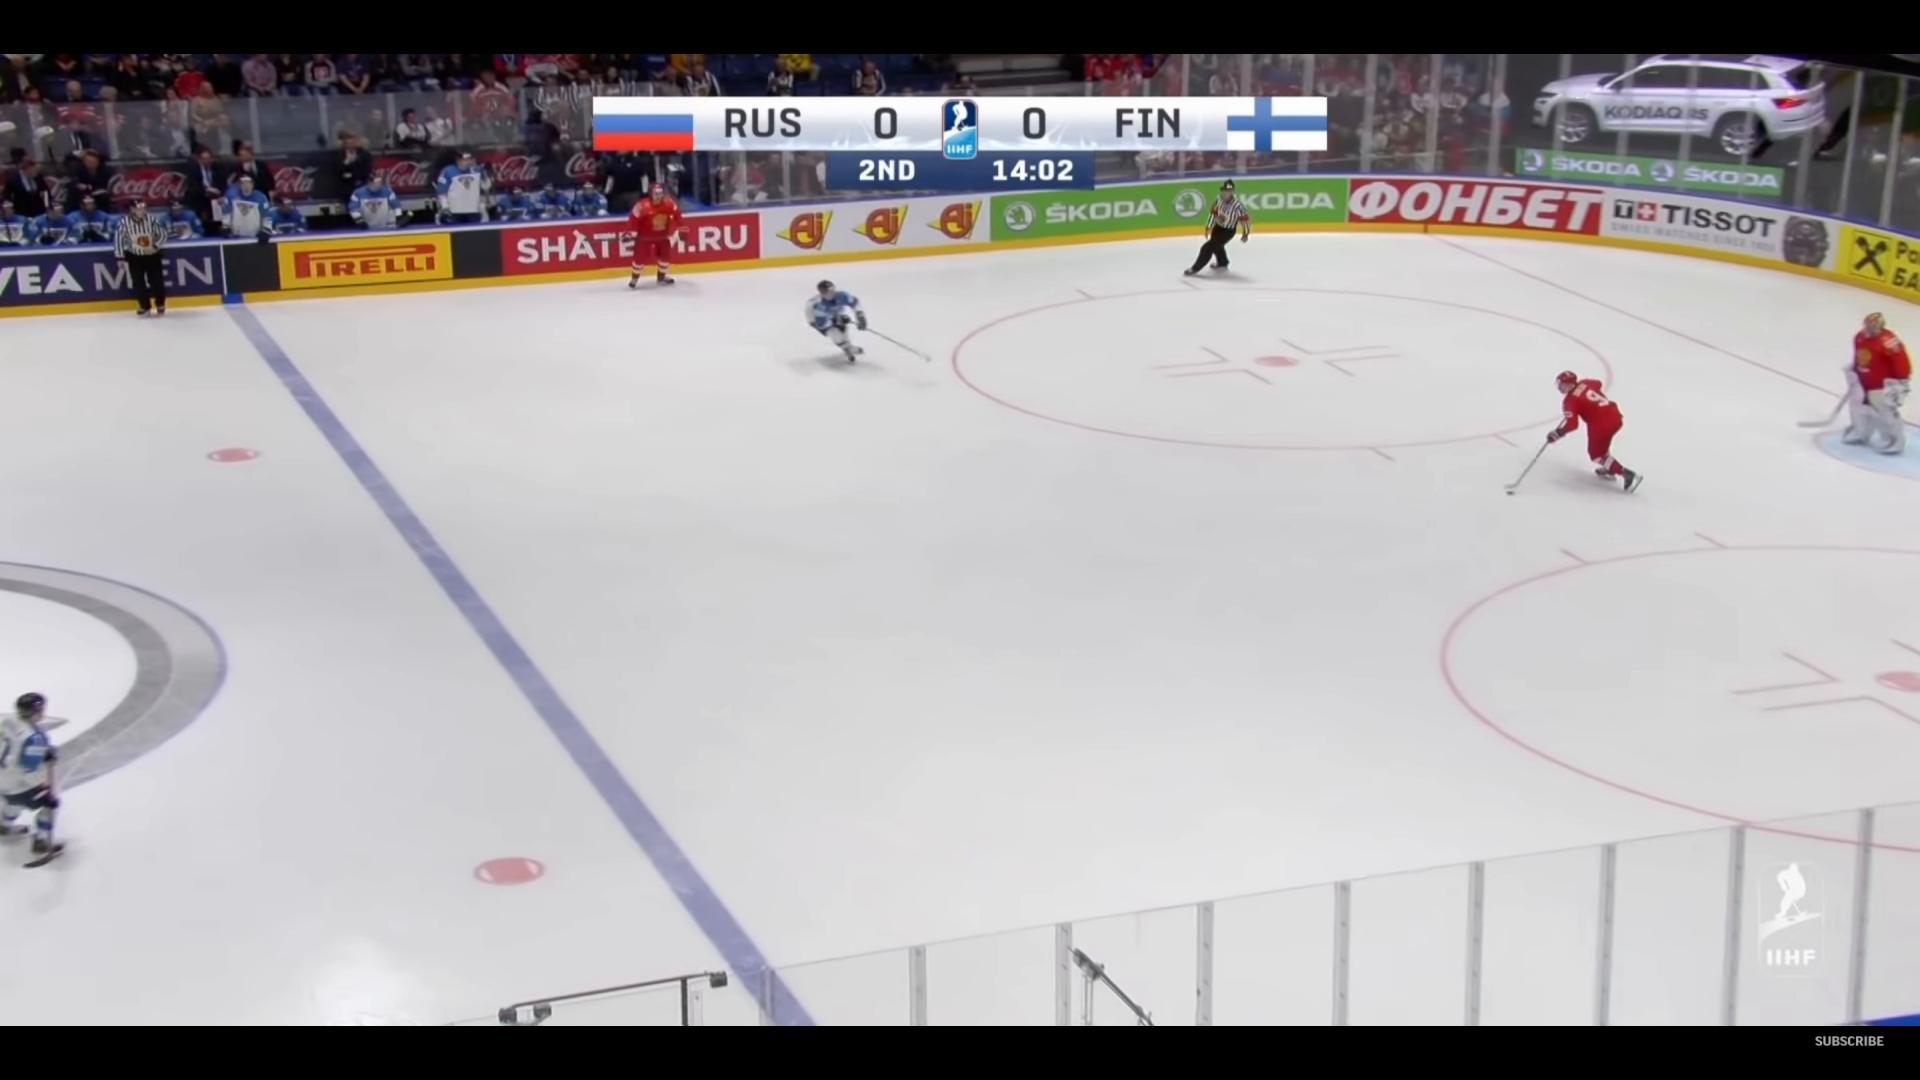puck: (1505, 489, 1514, 496)
